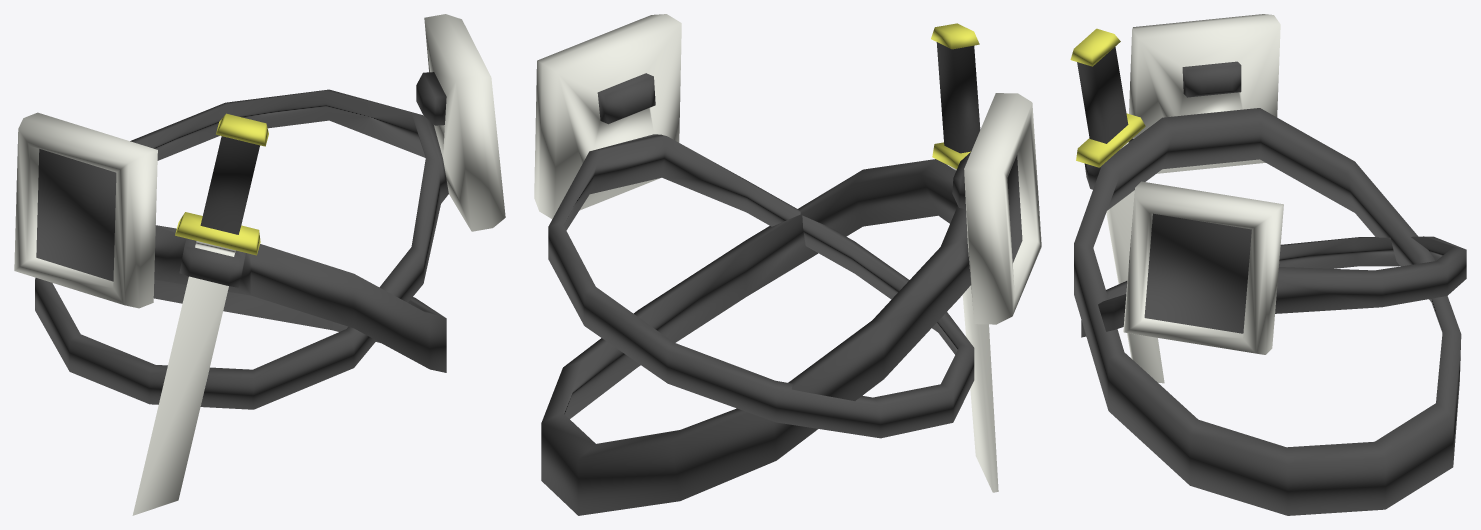
The model's file is BeltArmorLR.fbx.
3 renders of one model, left to right at view 1: azimuth 30°, elevation 25°; view 2: azimuth 150°, elevation 25°; view 3: azimuth 270°, elevation 25°, orthographic. The views are drawn at different scales.
Parts seen in each view (by area): view 1: LeftArmor, RightArmor; view 2: LeftArmor, RightArmor; view 3: LeftArmor, RightArmor.
Boxes of the visible parts, x1,y1,x2,y2 form: LeftArmor: [14, 112, 446, 515]; RightArmor: [35, 14, 505, 409]; LeftArmor: [541, 23, 1041, 515]; RightArmor: [534, 14, 974, 438]; LeftArmor: [1070, 14, 1461, 515]; RightArmor: [1081, 181, 1466, 354].
Size of the model in its own units: 189 by 158 by 150.
